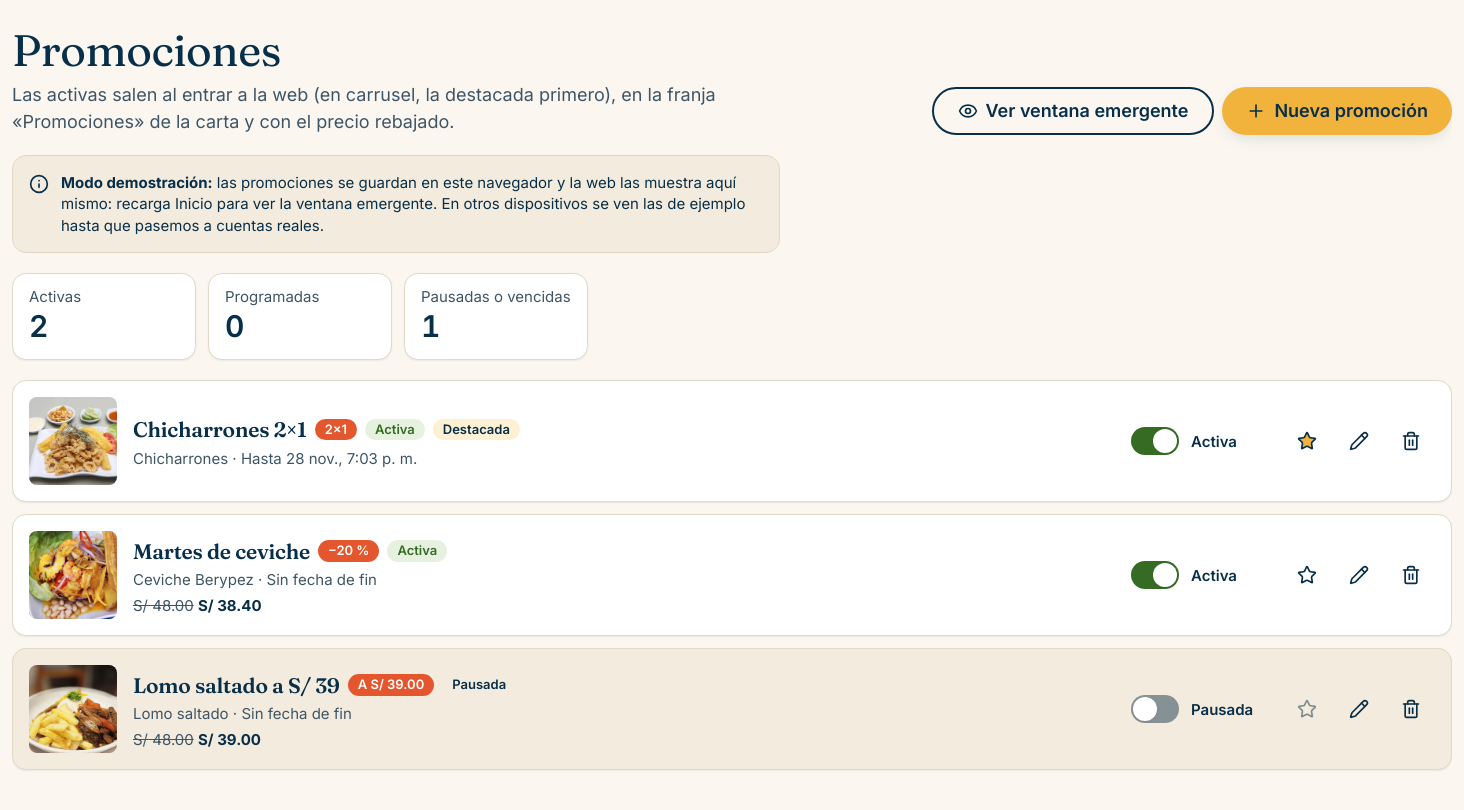
Test: Promociones (modo demostración) › pausa, destaca y elimina
Later steps or results of the test are not shown.
Check: the heading "Chicharrones 2×1" is shown, box [133,413,307,446]
Click the switch labelled "Activa" in the row of "Martes de ceviche" at (1203, 576), box [1131,552,1275,600]
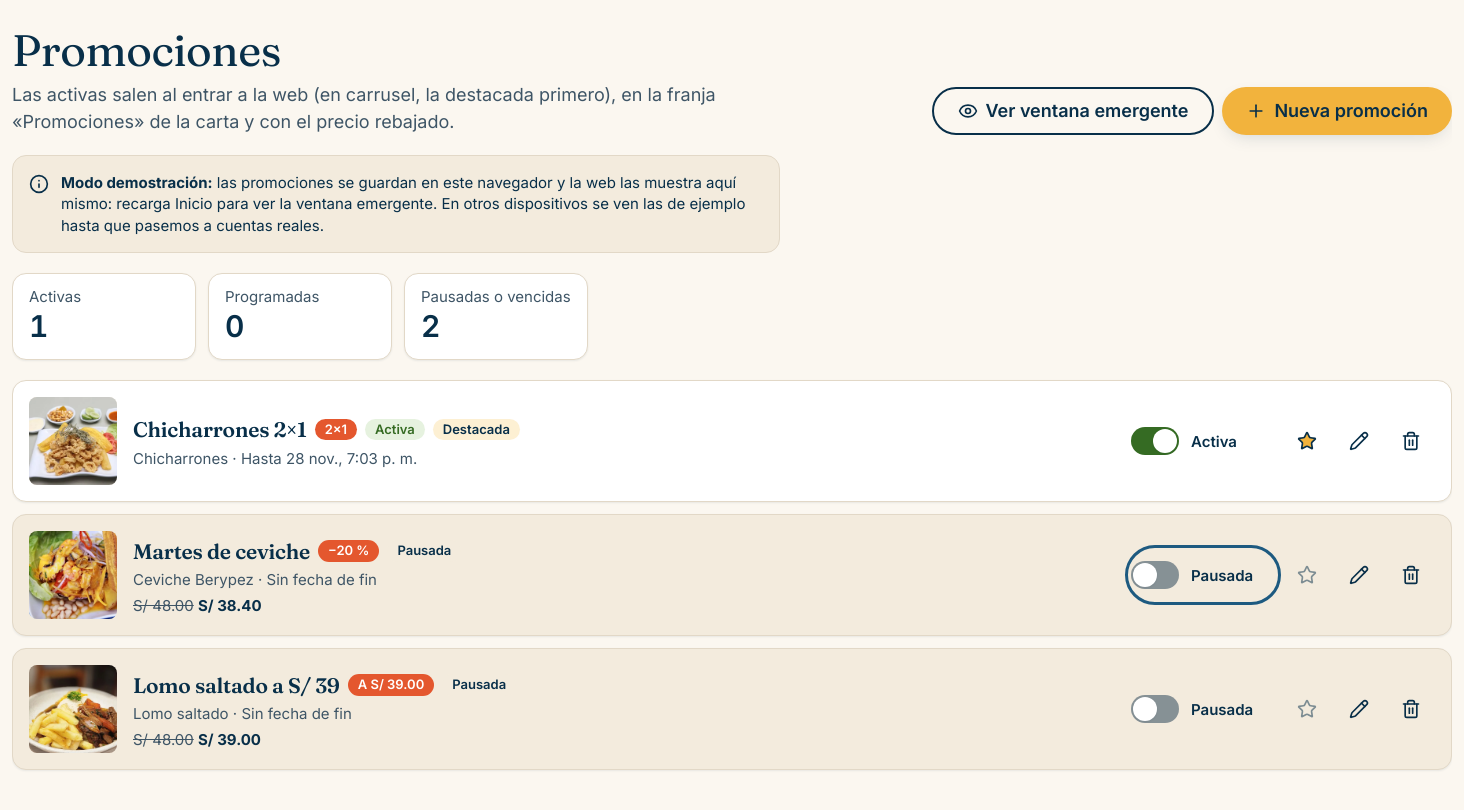
Check: the button named "Solo las promociones activas" in the row of "Martes de ceviche" is disabled, box [1283,552,1331,600]
